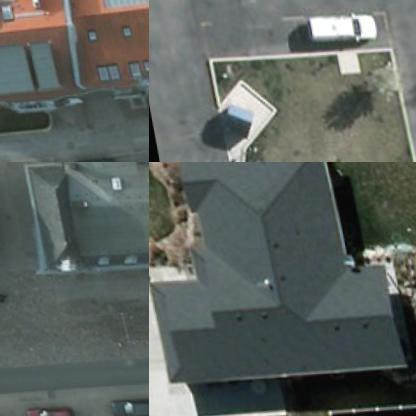car: (300, 14, 373, 42), (99, 390, 148, 415), (14, 399, 66, 415)
